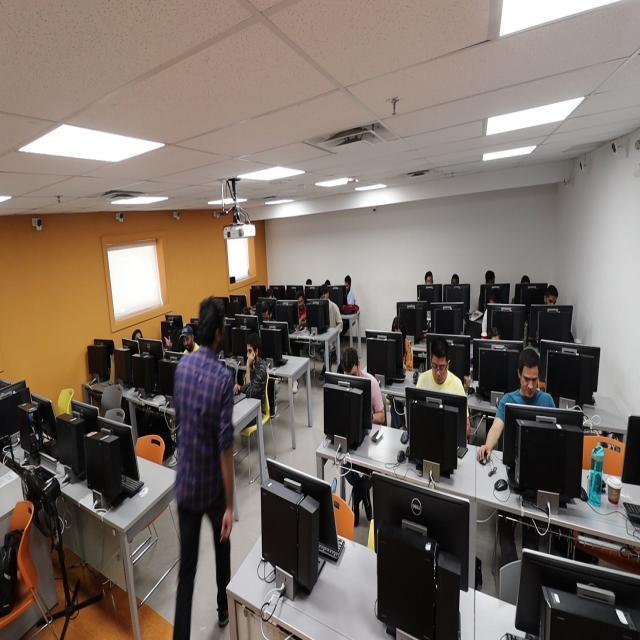Looking away: (521, 363, 539, 399), (431, 354, 448, 384), (344, 359, 362, 383), (245, 341, 258, 365), (182, 332, 194, 352), (546, 291, 558, 307), (344, 280, 352, 294), (297, 296, 305, 310), (426, 274, 434, 286), (321, 292, 329, 302)
